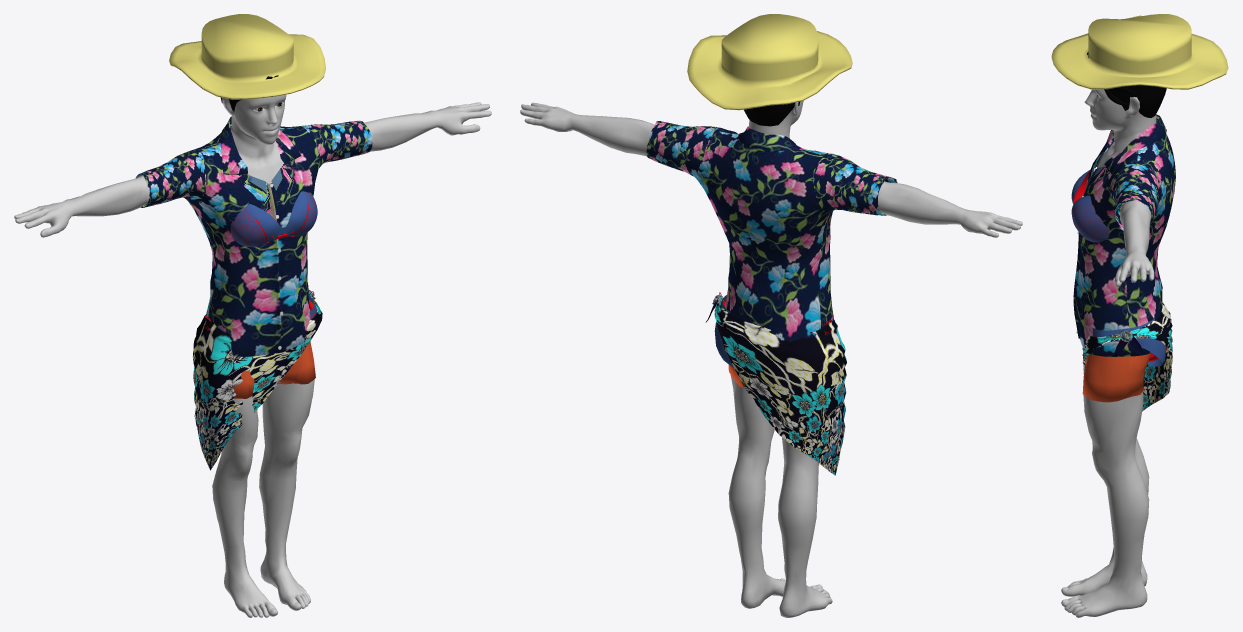
File: man2.fbx
3 renders of one model, left to right at view 1: azimuth 30°, elevation 25°; view 2: azimuth 150°, elevation 25°; view 3: azimuth 270°, elevation 25°, orthographic. The views are drawn at different scales.
Visible parts, largest first — view 1: Body, Shirt, Hat, Pareo, Bra1, Shots, Bra2; view 2: Shirt, Body, Pareo, Hat, Hair; view 3: Body, Shirt, Hat, Pareo, Shots, Bra1, Hair, Underware1, Bra2.
Part boxes in pixels (x1,y1,x2,y2): Body: [14, 94, 491, 617]; Shirt: [136, 116, 372, 356]; Hat: [169, 14, 325, 99]; Pareo: [193, 290, 322, 470]; Bra1: [230, 191, 317, 246]; Shots: [233, 341, 315, 398]; Bra2: [230, 192, 317, 246]; Shirt: [646, 121, 897, 342]; Body: [520, 101, 1022, 617]; Pareo: [705, 295, 846, 475]; Hat: [687, 14, 852, 110]; Hair: [744, 101, 799, 126]; Body: [1061, 89, 1156, 617]; Shirt: [1073, 114, 1175, 356]; Hat: [1051, 14, 1228, 89]; Pareo: [1082, 301, 1172, 411]; Shots: [1082, 353, 1150, 402]; Bra1: [1071, 169, 1108, 242]; Hair: [1087, 52, 1166, 117]; Underware1: [1092, 318, 1166, 366]; Bra2: [1072, 171, 1108, 241].
Size of the model in its own units: 111 by 124 by 34.72.
